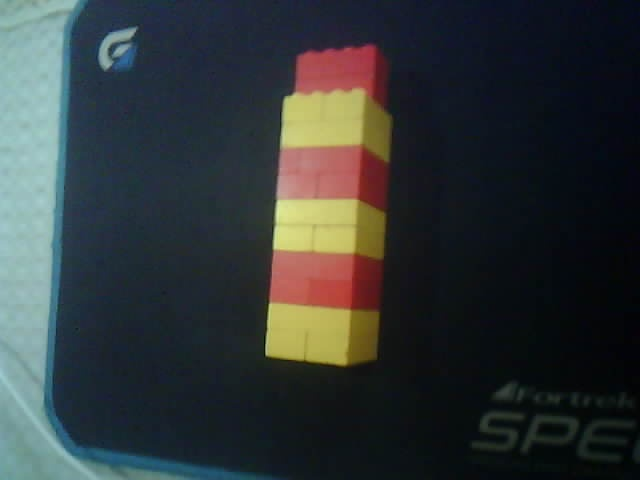lego: (264, 42, 394, 370)
